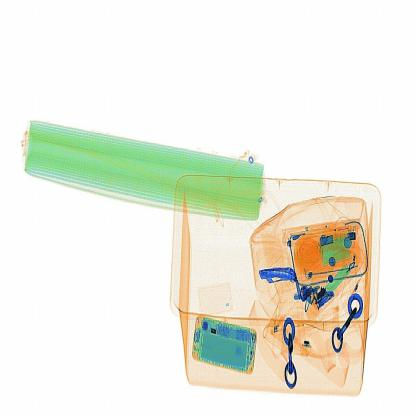knife: (250, 264, 305, 290)
